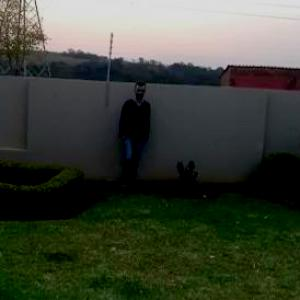follow: (117, 77, 152, 193)
